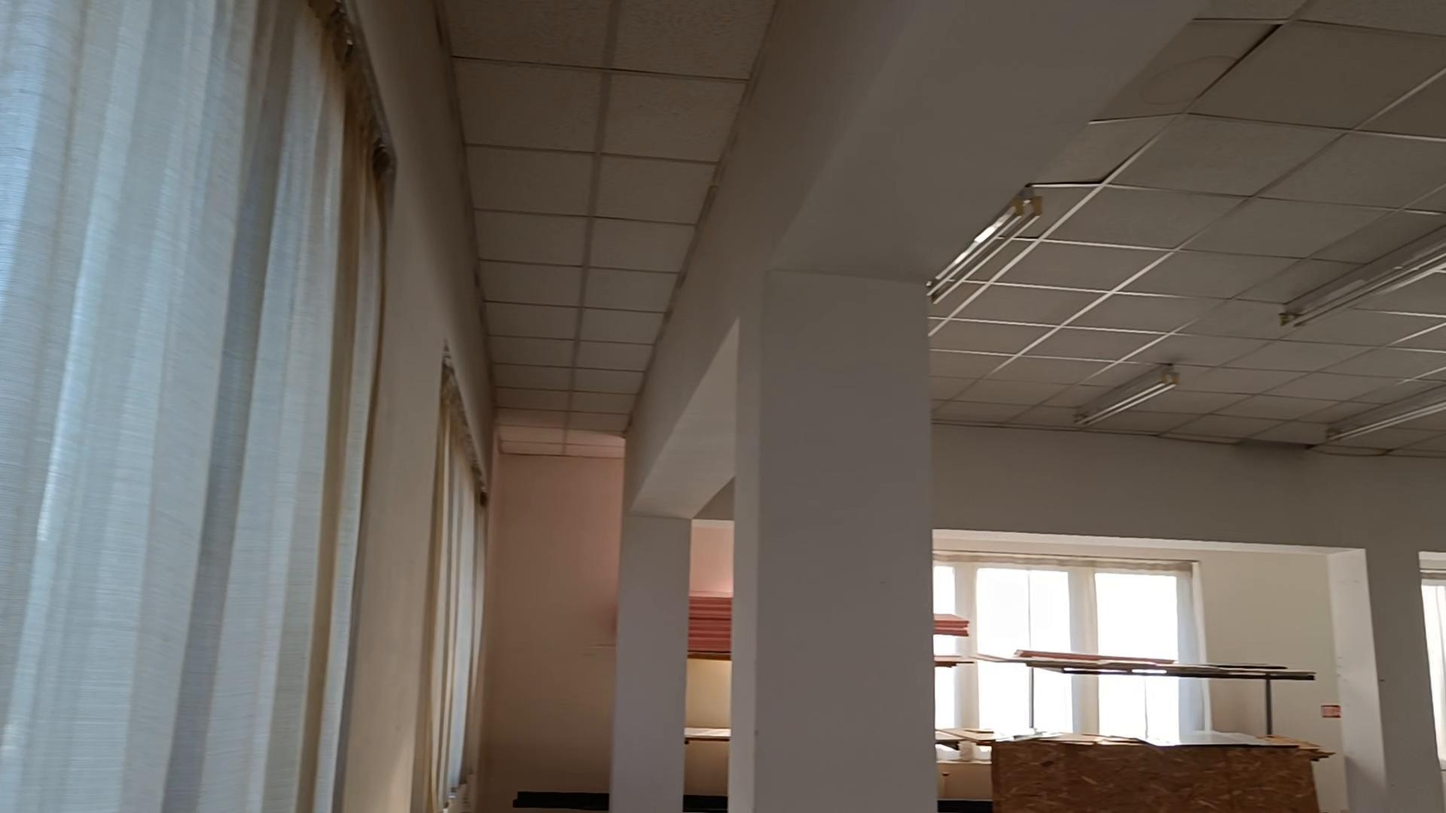ceiling: (931, 0, 1445, 445), (441, 0, 773, 433)
wall: (610, 1, 1191, 810), (933, 427, 1445, 809), (348, 5, 500, 812), (729, 273, 936, 812), (474, 447, 620, 812)
